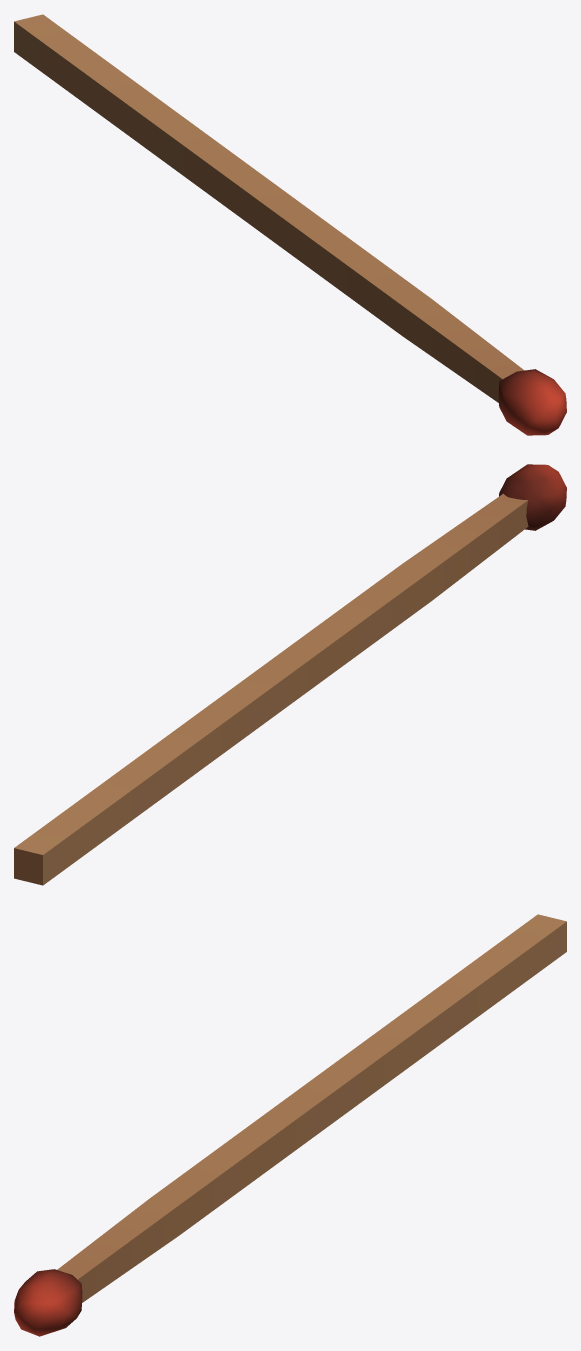
3 views of the same model, one above another, from view 1: azimuth 30°, elevation 25°; view 2: azimuth 150°, elevation 25°; view 3: azimuth 330°, elevation 25° (orthographic).
Visible parts, largest first — view 1: alt4.088; view 2: alt4.088; view 3: alt4.088.
Boxes of the visible parts, box(x1,y1,x2,y2) form: alt4.088: box(14, 14, 566, 435); alt4.088: box(14, 464, 566, 885); alt4.088: box(14, 914, 566, 1336).
Bounding box in the file's own units: 0.0299 × 0.0306 × 0.5.
